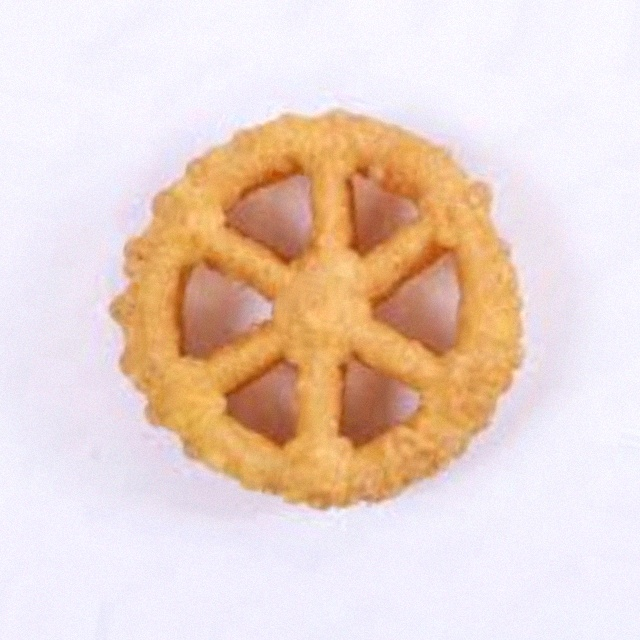Kokis: (86, 81, 554, 559)
